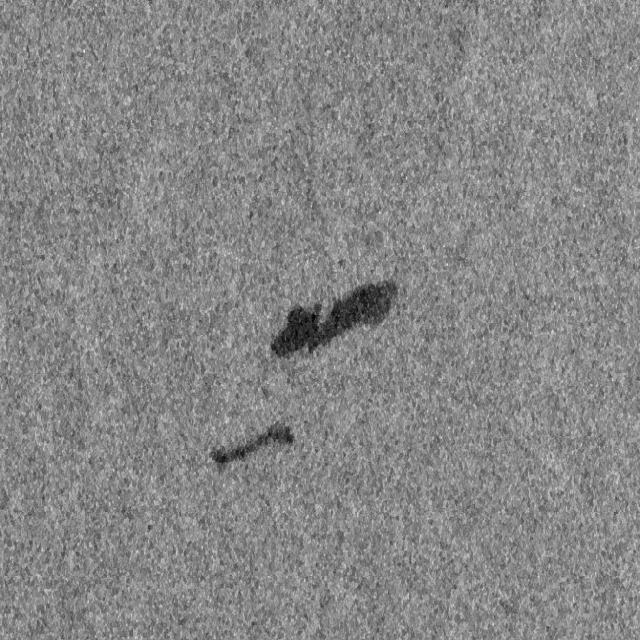oil-spill: (262, 276, 400, 372), (207, 421, 298, 479)
